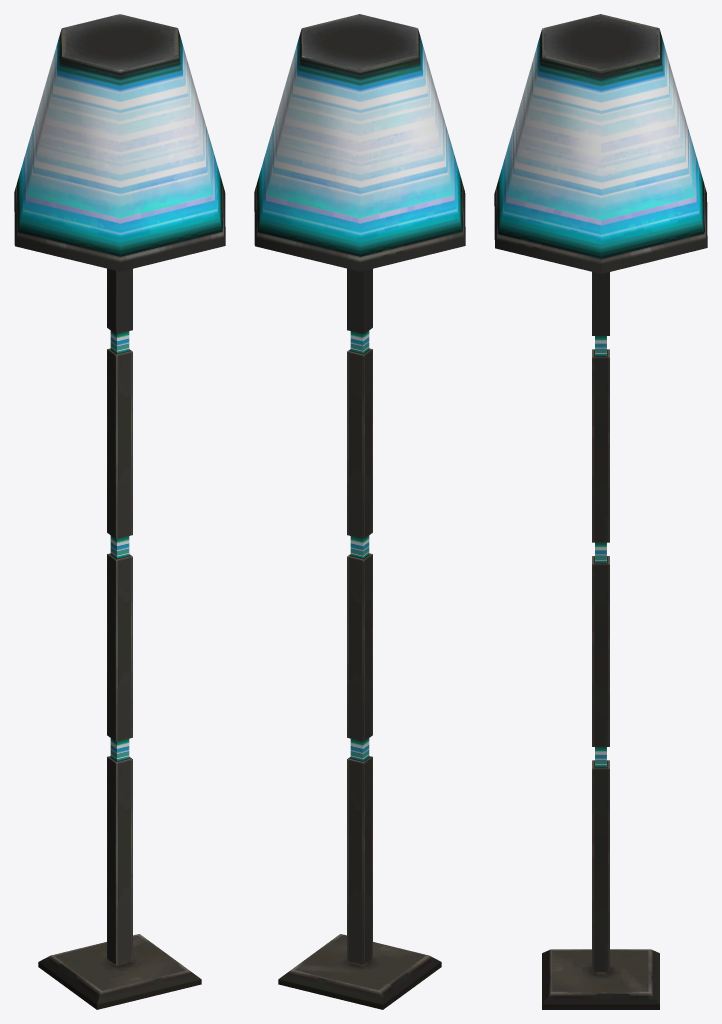
File: furni_0200603_01.FBX
3 renders of one model, left to right at view 1: azimuth 30°, elevation 25°; view 2: azimuth 150°, elevation 25°; view 3: azimuth 270°, elevation 25°, orthographic.
Visible parts, largest first — view 1: furni_0200603_01; view 2: furni_0200603_01; view 3: furni_0200603_01.
Boxes of the visible parts, bbox=[...] form: furni_0200603_01: bbox=[14, 14, 225, 1009]; furni_0200603_01: bbox=[254, 14, 465, 1009]; furni_0200603_01: bbox=[494, 14, 707, 1009].
Bounding box in the file's own units: 43.06 × 182 × 37.38.
Materials: 1 (1 with a texture image).
